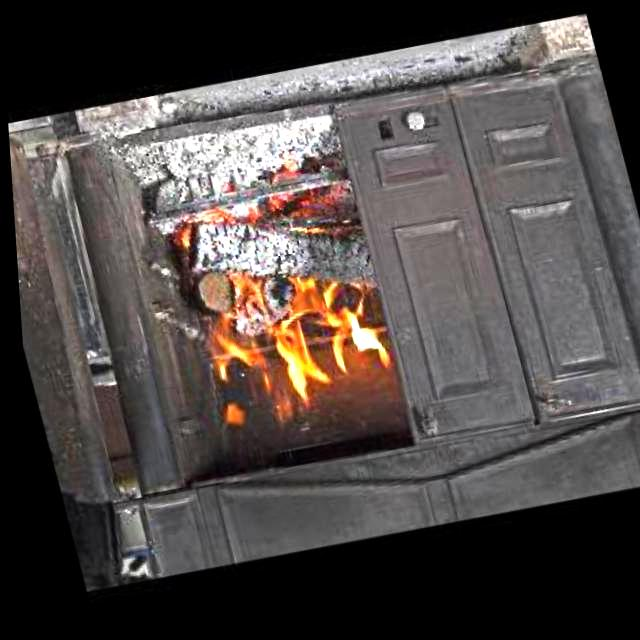fire: (170, 254, 394, 442)
